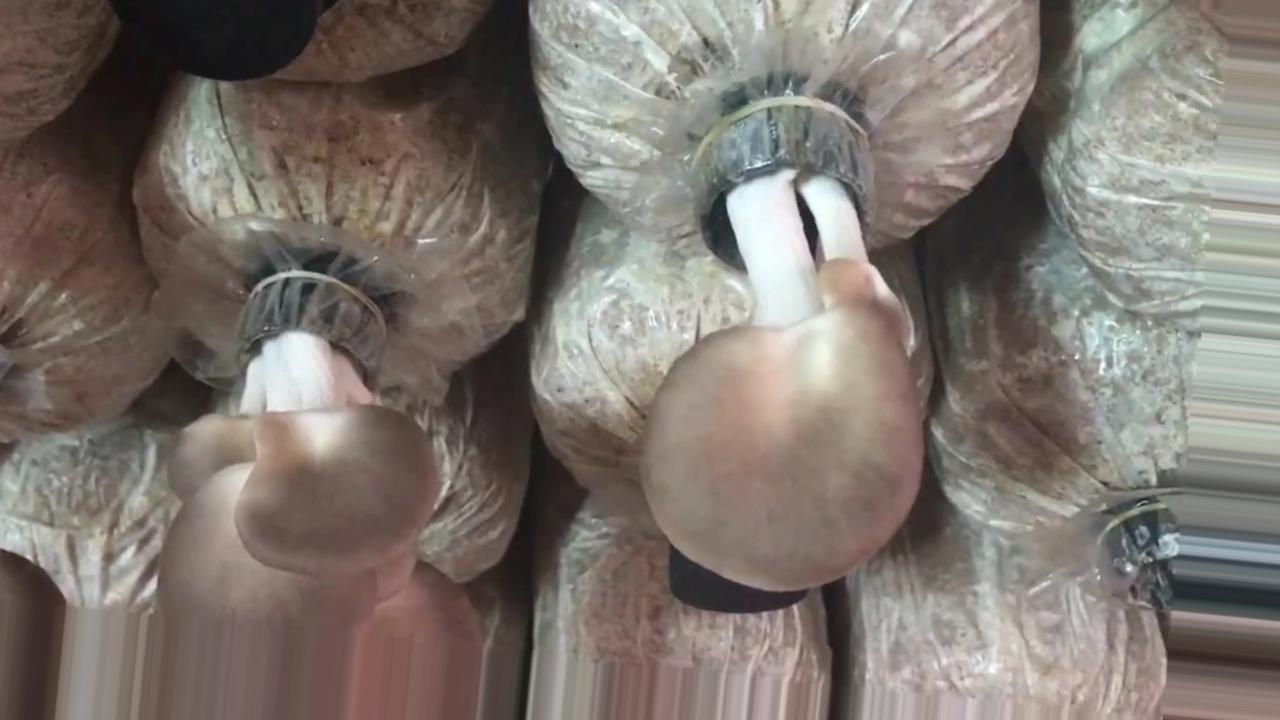nam: (161, 288, 482, 719), (641, 100, 923, 590)
